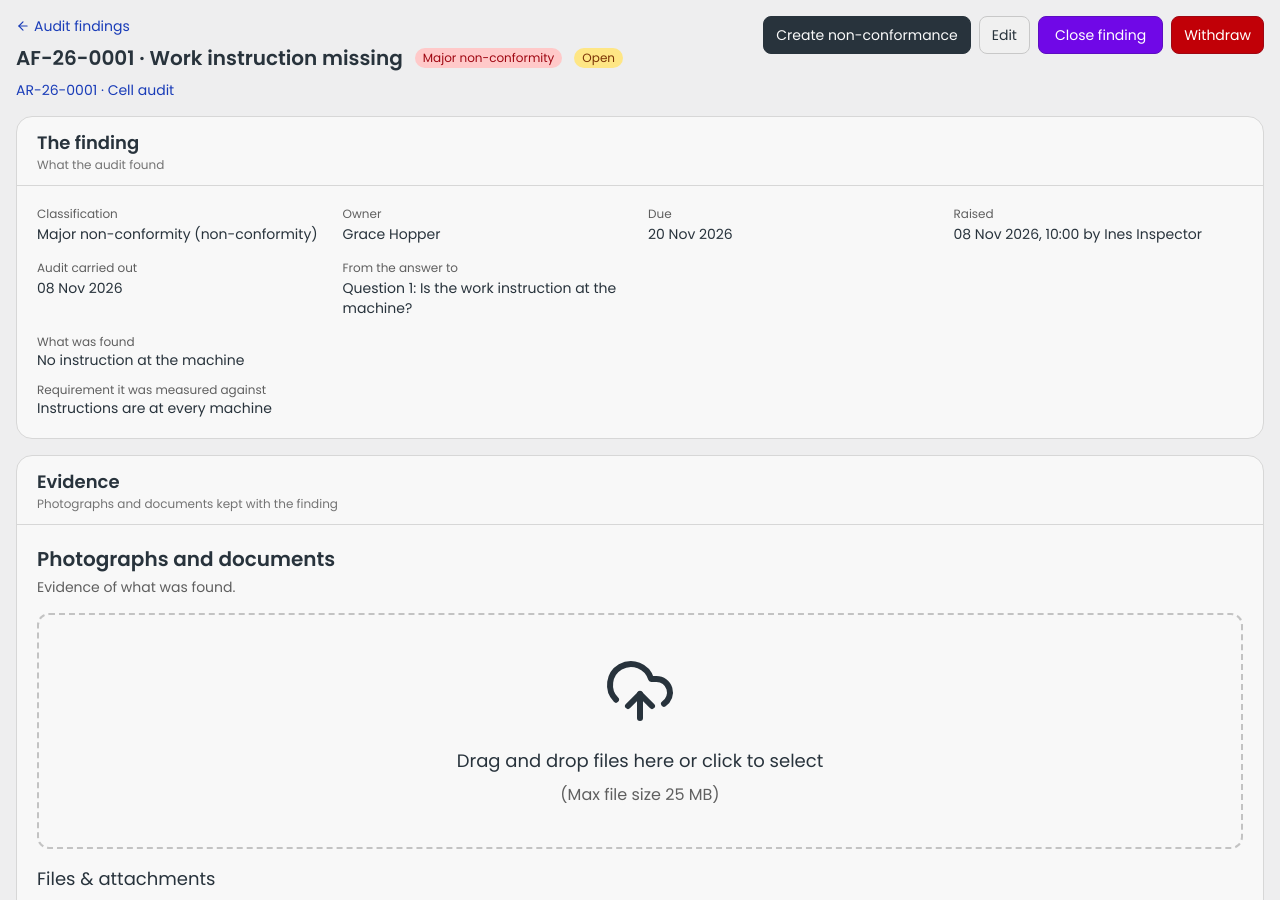
Scenario: a finding › edits an open finding, sending what is on screen
Later steps or results of the test are not shown.
Click the button "Edit" at (1004, 35), box [979, 16, 1030, 54]
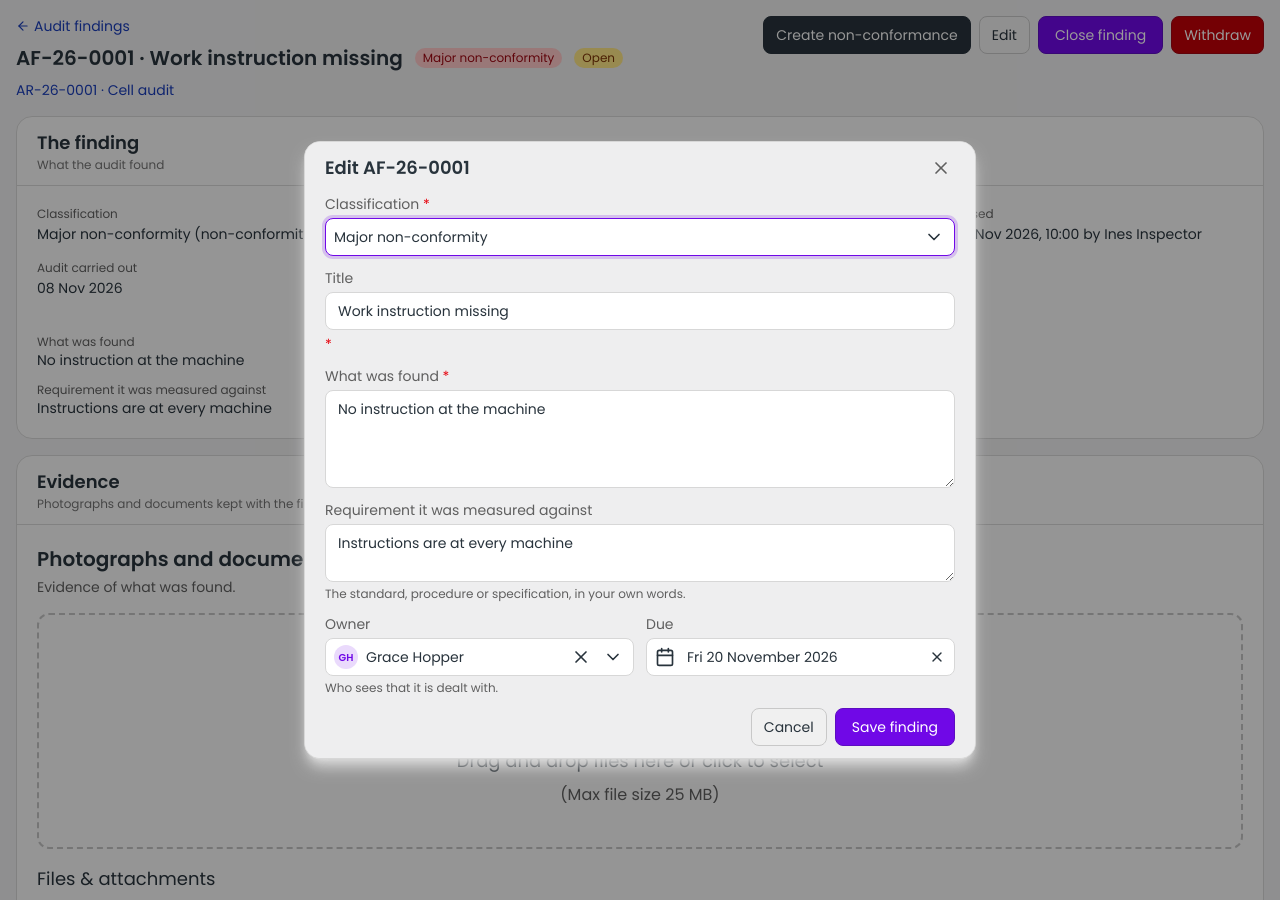
expect the field labelled "Title" holds "Work instruction missing": met, box [325, 292, 955, 330]
expect the text box labelled "What was found" holds "No instruction at the machine": met, box [325, 390, 955, 488]
expect the dropdown labelled "Classification" holds "Major non-conformity": met, box [334, 226, 910, 248]
